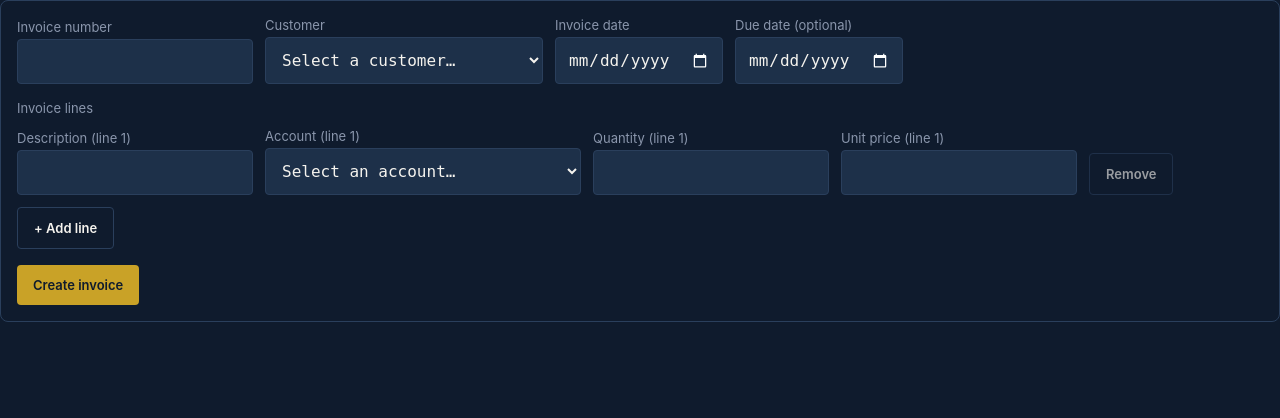
Test: CreateARInvoiceForm › removes a line when its own Remove button is clicked
The width and height of the screenshot is (1280, 418).
Click the button "+ Add line": click(66, 228) [17,207,114,249]
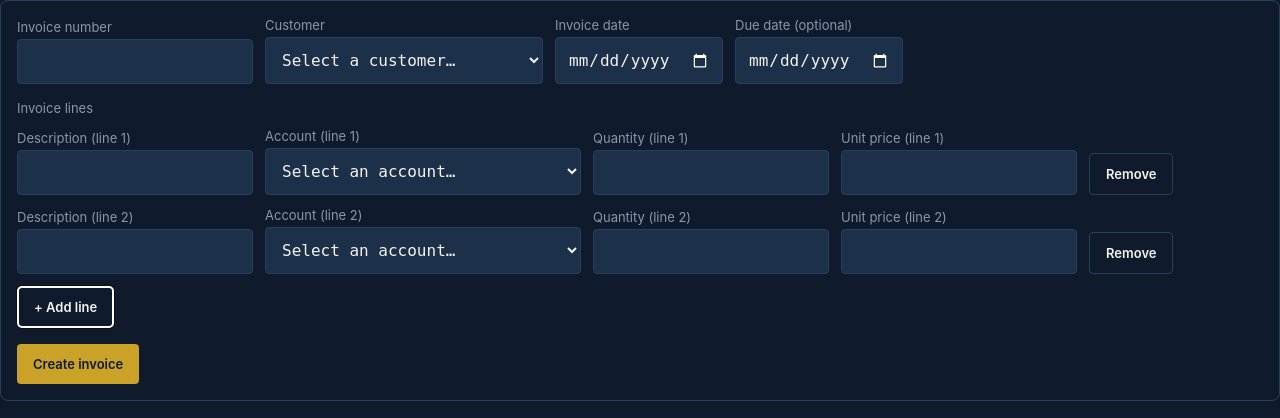
Check: the field labelled "Description (line 2)" is shown, box [17,229,253,274]
Click the button "Remove" below "Unit price (line 2)": click(1131, 253) [1089,232,1174,274]
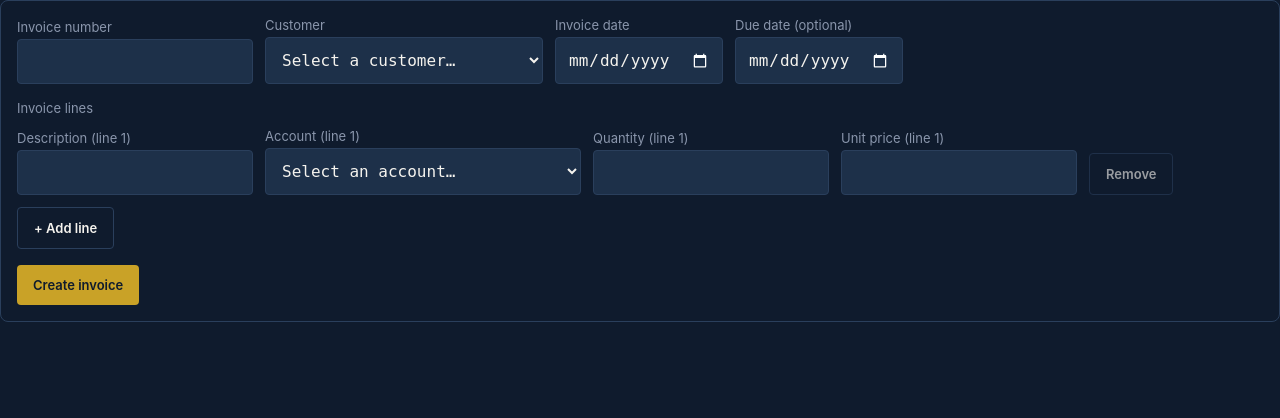
Check: the label labelled "Description (line 2)" is gone
